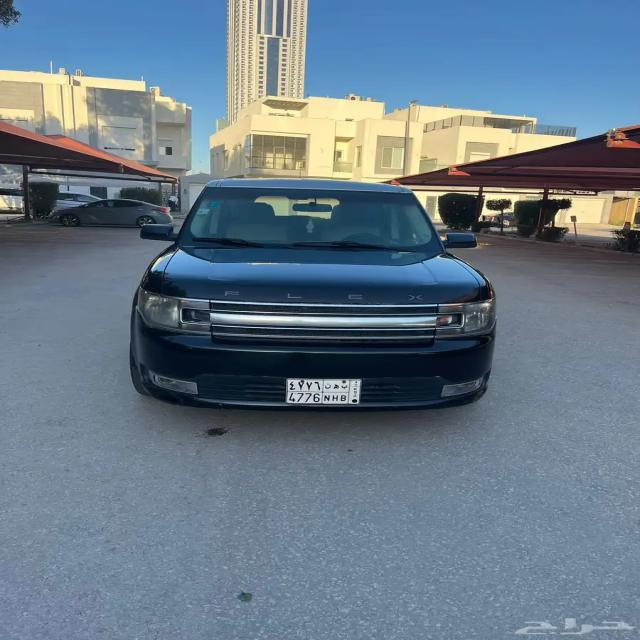license_plate: (286, 390, 350, 406)
